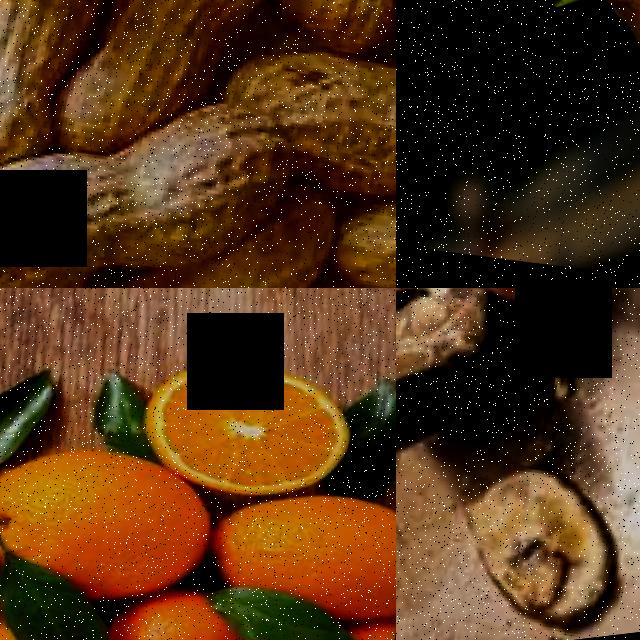onion: (565, 0, 640, 241)
orange: (0, 424, 216, 628), (126, 347, 360, 532), (190, 473, 396, 640), (85, 583, 286, 640)
peanuts: (37, 74, 293, 288), (267, 42, 396, 232), (88, 0, 296, 112), (0, 119, 94, 288), (0, 0, 77, 173), (244, 0, 396, 74), (311, 192, 396, 288)
